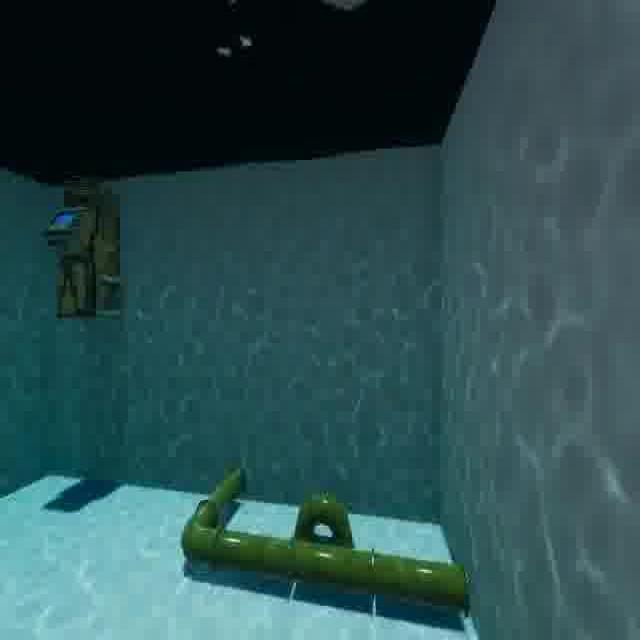Control Panel: (40, 174, 131, 340)
Pipe: (174, 456, 483, 621)
